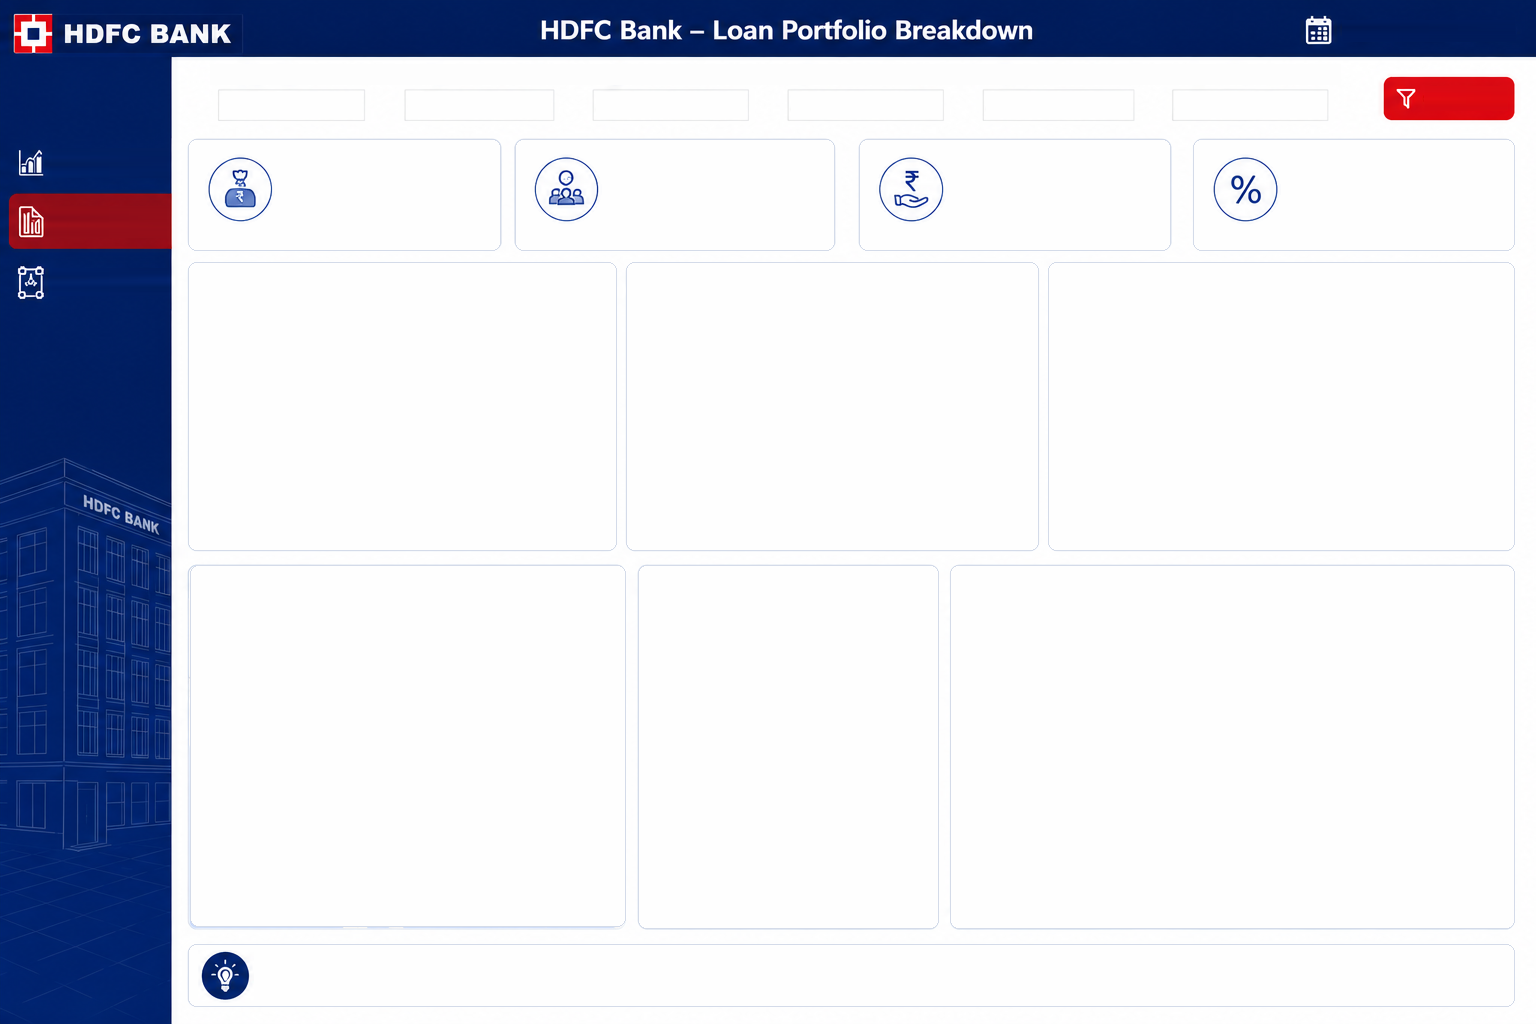

The dashboard page shown, as its layout file describes it:
{"tool":"powerbi","page":{"name":"Loan Portfolio","canvas":[2560,1440],"ordinal":1},"visuals":[{"type":"pageNavigator","box":[71.9,182,249.1,253.9],"z":0},{"type":"slicer","fields":{"Values":["DimDate.FinancialYear"]},"box":[349.7,88.6,244.3,93.4],"z":1},{"type":"slicer","fields":{"Values":["DimDate.Quarter"]},"box":[661.6,86.3,266.1,93.5],"z":2},{"type":"slicer","fields":{"Values":["DimBranch.Region"]},"box":[987.6,86.3,261.3,93.5],"z":3},{"type":"slicer","fields":{"Values":["DimBranch.Zone"]},"box":[1304,88.7,278.1,93.5],"z":4},{"type":"slicer","fields":{"Values":["DimBranch.BranchName"]},"box":[1625.2,88.7,273.3,93.5],"z":5},{"type":"slicer","fields":{"Values":["DimProduct.ProductName"]},"box":[1936.8,86.3,275.7,93.5],"z":6},{"type":"group","id":"g1","title":"Group 3","box":[1531.2,136.5,440.1,227.5],"z":8},{"type":"group","id":"g2","title":"Group 4","box":[2119.8,136.5,422.4,228.8],"z":9},{"type":"cardVisual","fields":{"Data":["MeasureTable.Loan Book Cr"]},"box":[438.4,138.9,404.8,213.2],"z":8000,"group":"g4"},{"type":"cardVisual","fields":{"Data":["MeasureTable.Active Loans"]},"box":[986.9,138.9,404.8,213.2],"z":9000,"group":"g3"},{"type":"cardVisual","fields":{"Data":["MeasureTable.Avg Loan Size Lakh"]},"box":[2119.8,136.5,404.8,227.5],"z":10000,"group":"g2"},{"type":"cardVisual","fields":{"Data":["MeasureTable.EMI Collection Cr"]},"box":[1556.9,136.5,414.4,227.5],"z":11000,"group":"g1"},{"type":"cardVisual","fields":{"Data":["MeasureTable.Sub Loan Book"]},"box":[387.8,292.5,448.2,71.9],"z":12000,"group":"g4"},{"type":"cardVisual","fields":{"Data":["MeasureTable.Sub Active Loans"]},"box":[970.5,292.5,419.5,71.9],"z":13000,"group":"g3"},{"type":"cardVisual","fields":{"Data":["MeasureTable.Sub EMI"]},"box":[1531.2,291,436.3,71.9],"z":14000,"group":"g1"},{"type":"cardVisual","fields":{"Data":["MeasureTable.Sub Avg Loan"]},"box":[2132.3,293.4,409.9,71.9],"z":15000,"group":"g2"},{"type":"group","id":"g3","title":"Group 1","box":[970.5,138.9,421.2,225.5],"z":18005},{"type":"group","id":"g4","title":"Group 2","box":[387.8,138.9,455.4,225.5],"z":18006},{"type":"actionButton","box":[2329.9,112.7,210.9,50.3],"z":18007},{"type":"clusteredBarChart","title":"Outstanding Loan Amount by Product (₹ Cr)","fields":{"Category":["DimProduct.ProductName"],"Y":["MeasureTable.Active Loans"]},"box":[1033.1,352.4,687.9,436.3],"z":18008},{"type":"lineChart","title":"EMI Collection Trend (Drill down: Year > Quarter > Month)","fields":{"Category":["DimDate.Month","DimDate.FY Quarter","DimDate.FY"],"Y":["MeasureTable.EMI Collection Cr"]},"box":[1749.8,352.4,791,441],"z":18009},{"type":"donutChart","title":"Loan Status Distribution","fields":{"Category":["DimBranch.Region"],"Y":["MeasureTable.Loan Book Cr"]},"box":[1071.5,805.4,486.6,491.4],"z":18010},{"type":"map","title":"Loan Exposure by Geography (₹ Cr)","fields":{"Category":["DimBranch.City"],"Size":["MeasureTable.Loan Book Cr"]},"box":[321.2,788.6,711.9,508.2],"z":18011},{"type":"pivotTable","fields":{"Rows":["DimBranch.Region","DimBranch.Zone","DimBranch.BranchName"],"Values":["MeasureTable.Loan Book Cr","MeasureTable.EMI Collection Cr","MeasureTable.Active Loans","MeasureTable.Avg Loan Size Lakh"]},"box":[1582,793.4,958.8,503.4],"z":18012},{"type":"treemap","title":"\nLoan Portfolio by Product (₹ Cr)","fields":{"Group":["DimProduct.ProductName"],"Values":["MeasureTable.Loan Book Cr"]},"box":[321.2,364.3,711.9,424.3],"z":18013},{"type":"textbox","box":[417.1,1330.3,199,91.1],"z":18014},{"type":"textbox","box":[594.5,1349.5,477,71.9],"z":18015},{"type":"textbox","box":[1056.3,1349.5,553.7,71.9],"z":18016},{"type":"textbox","box":[1594.8,1349.5,477,71.9],"z":18017},{"type":"textbox","box":[2056.6,1349.5,467.4,71.9],"z":18018},{"type":"cardVisual","fields":{"Data":["MeasureTable.Data As On"]},"box":[2212.4,0,347.6,86.3],"z":18019}]}

Visuals, with their boxes on the page's 2560x1440 design canvas (x1, y1, x2, y2). These are canvas units, not pixel positions in the 1536x1024 screenshot, which may show the page scaled, cropped or inside an application window:
pageNavigator: bbox=[72, 182, 321, 436]
slicer - DimDate.FinancialYear: bbox=[350, 89, 594, 182]
slicer - DimDate.Quarter: bbox=[662, 86, 928, 180]
slicer - DimBranch.Region: bbox=[988, 86, 1249, 180]
slicer - DimBranch.Zone: bbox=[1304, 89, 1582, 182]
slicer - DimBranch.BranchName: bbox=[1625, 89, 1898, 182]
slicer - DimProduct.ProductName: bbox=[1937, 86, 2212, 180]
"Group 3" group: bbox=[1531, 136, 1971, 364]
"Group 4" group: bbox=[2120, 136, 2542, 365]
cardVisual - MeasureTable.Loan Book Cr: bbox=[438, 139, 843, 352]
cardVisual - MeasureTable.Active Loans: bbox=[987, 139, 1392, 352]
cardVisual - MeasureTable.Avg Loan Size Lakh: bbox=[2120, 136, 2525, 364]
cardVisual - MeasureTable.EMI Collection Cr: bbox=[1557, 136, 1971, 364]
cardVisual - MeasureTable.Sub Loan Book: bbox=[388, 292, 836, 364]
cardVisual - MeasureTable.Sub Active Loans: bbox=[970, 292, 1390, 364]
cardVisual - MeasureTable.Sub EMI: bbox=[1531, 291, 1968, 363]
cardVisual - MeasureTable.Sub Avg Loan: bbox=[2132, 293, 2542, 365]
"Group 1" group: bbox=[970, 139, 1392, 364]
"Group 2" group: bbox=[388, 139, 843, 364]
actionButton: bbox=[2330, 113, 2541, 163]
"Outstanding Loan Amount by Product (₹ Cr)" clusteredBarChart: bbox=[1033, 352, 1721, 789]
"EMI Collection Trend (Drill down: Year > Quarter > Month)" lineChart: bbox=[1750, 352, 2541, 793]
"Loan Status Distribution" donutChart: bbox=[1072, 805, 1558, 1297]
"Loan Exposure by Geography (₹ Cr)" map: bbox=[321, 789, 1033, 1297]
pivotTable - DimBranch.Region x DimBranch.Zone: bbox=[1582, 793, 2541, 1297]
"
Loan Portfolio by Product (₹ Cr)" treemap: bbox=[321, 364, 1033, 789]
textbox: bbox=[417, 1330, 616, 1421]
textbox: bbox=[594, 1350, 1072, 1421]
textbox: bbox=[1056, 1350, 1610, 1421]
textbox: bbox=[1595, 1350, 2072, 1421]
textbox: bbox=[2057, 1350, 2524, 1421]
cardVisual - MeasureTable.Data As On: bbox=[2212, 0, 2560, 86]
